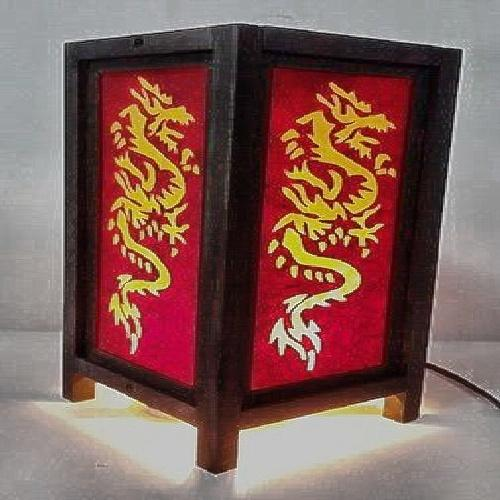lamp: (60, 28, 438, 470)
